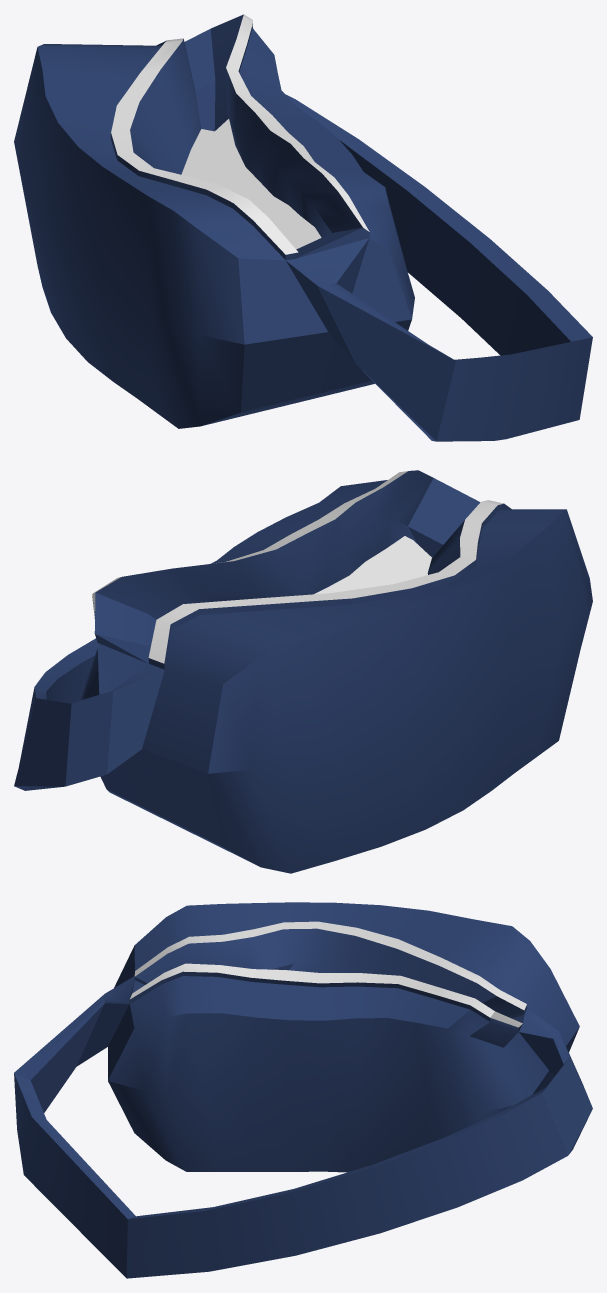
Rendered from Loot_Bag2.fbx.
3 views of the same model, one above another, from view 1: azimuth 30°, elevation 25°; view 2: azimuth 150°, elevation 25°; view 3: azimuth 270°, elevation 25° (orthographic). The views are drawn at different scales.
Visible parts, largest first — view 1: Cube.023; view 2: Cube.023; view 3: Cube.023.
Part boxes in pixels (x1=…): Cube.023: x1=14, y1=14, x2=592, y2=441; Cube.023: x1=14, y1=470, x2=592, y2=873; Cube.023: x1=14, y1=902, x2=592, y2=1278.
Bounding box in the file's own units: 381 × 257 × 582.
